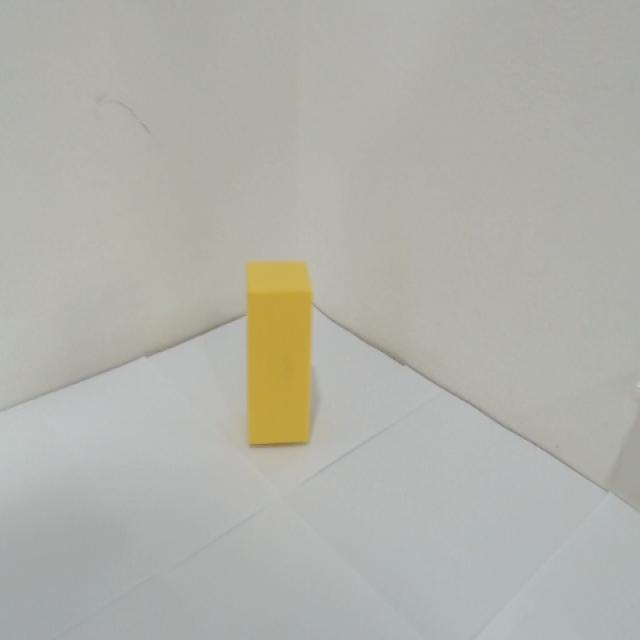cube: (238, 248, 324, 465)
